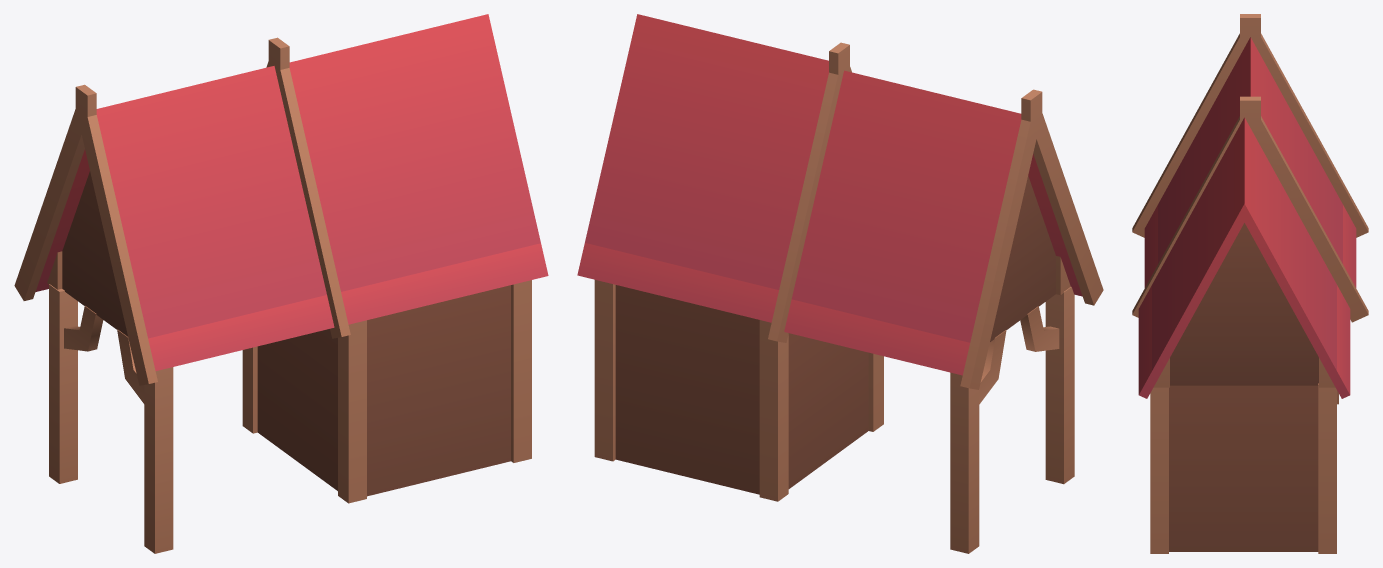
File: shelter.glb
3 renders of one model, left to right at view 1: azimuth 30°, elevation 25°; view 2: azimuth 150°, elevation 25°; view 3: azimuth 270°, elevation 25°, orthographic. The views are drawn at different scales.
Visible parts, largest first — view 1: wall-wood-block; view 2: wall-wood-block; view 3: wall-wood-block.
Boxes of the visible parts, box(x1,y1,x2,y2) form: wall-wood-block: box(14, 14, 548, 553); wall-wood-block: box(577, 14, 1103, 553); wall-wood-block: box(1132, 14, 1368, 553).
Bounding box in the file's own units: 2.2 × 2.22 × 1.27.
Materials: 4 (4 with a texture image).
